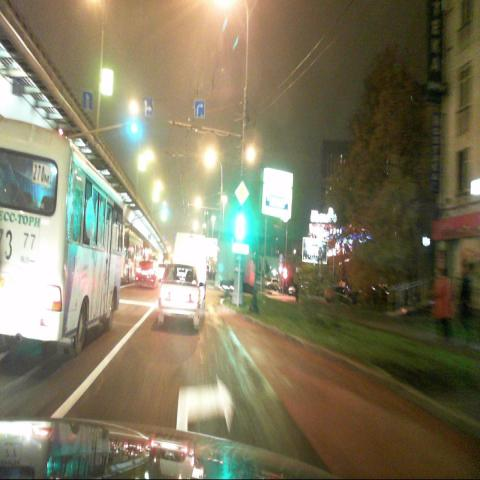2_1: (234, 181, 250, 207)
5_15_2: (142, 97, 154, 118), (82, 90, 92, 110), (195, 100, 205, 120)
